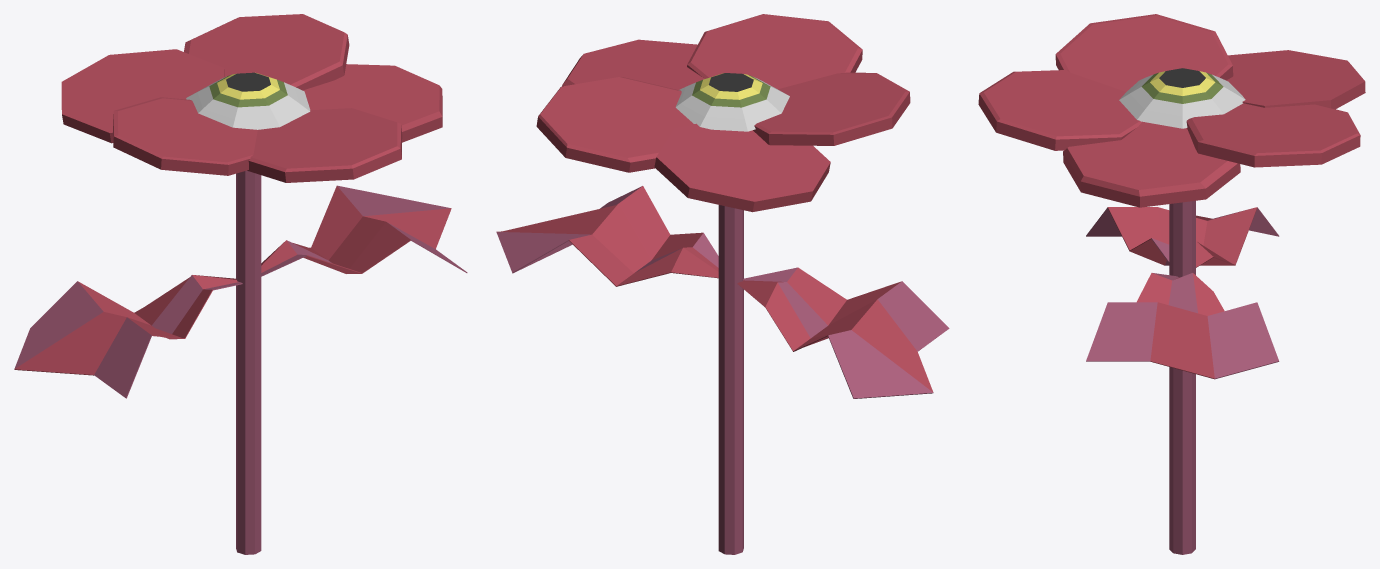
File: Flor_Entropia.fbx
3 renders of one model, left to right at view 1: azimuth 30°, elevation 25°; view 2: azimuth 150°, elevation 25°; view 3: azimuth 270°, elevation 25°, orthographic.
Visible parts, largest first — view 1: Flor; view 2: Flor; view 3: Flor.
Boxes of the visible parts, <box> form: Flor: <box>14,14,467,554</box>; Flor: <box>496,14,949,554</box>; Flor: <box>978,14,1365,554</box>.
Size of the model in its own units: 527 by 538 by 400.
